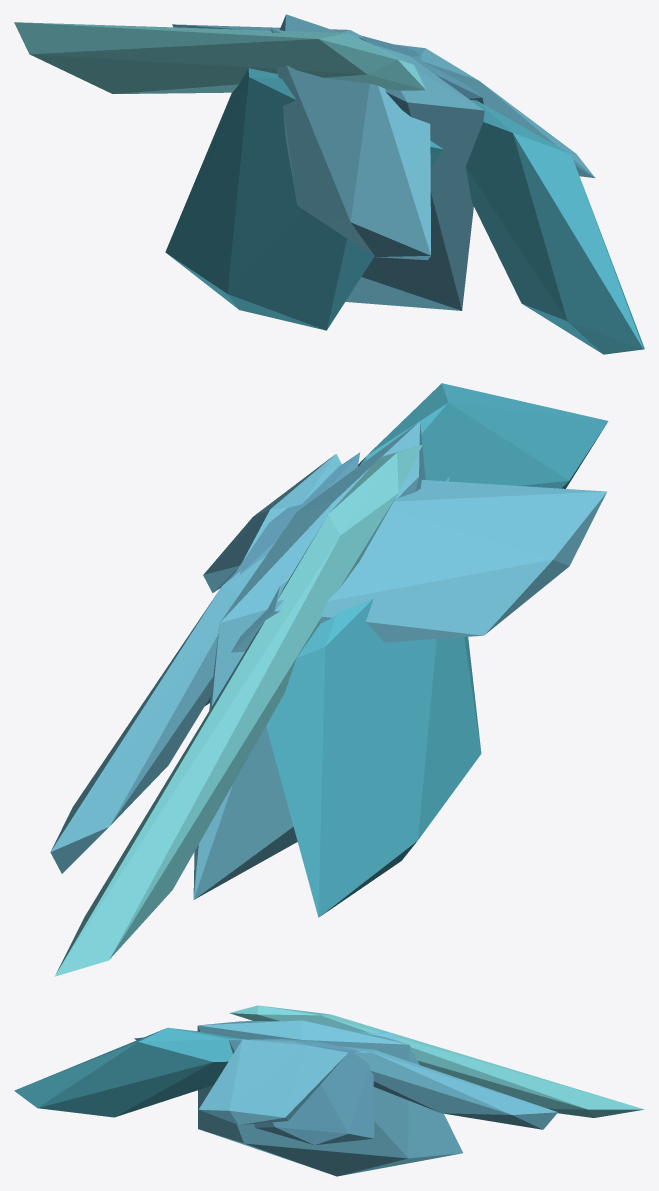
The model's file is cristal.obj.
3 views of the same model, one above another, from view 1: azimuth 30°, elevation 25°; view 2: azimuth 150°, elevation 25°; view 3: azimuth 270°, elevation 25° (orthographic). The views are drawn at different scales.
Visible parts, largest first — view 1: Platonic.7, Platonic.9, Platonic.10, cristais.5, Platonic.5, Platonic.11, Platonic.6, Platonic.8; view 2: Platonic.7, cristais.5, Platonic.10, Platonic.5, Platonic.9, Platonic.8, Platonic.11, Platonic.6; view 3: Platonic.5, Platonic.9, Platonic.11, cristais.5, Platonic.8, Platonic.6.
Part boxes in pixels (bbox=[...]): Platonic.7: bbox=[165, 68, 443, 330]; Platonic.9: bbox=[465, 100, 644, 354]; Platonic.10: bbox=[270, 29, 430, 260]; cristais.5: bbox=[14, 22, 425, 93]; Platonic.5: bbox=[279, 14, 484, 310]; Platonic.11: bbox=[394, 44, 595, 178]; Platonic.6: bbox=[358, 35, 483, 104]; Platonic.8: bbox=[172, 24, 362, 39]; Platonic.7: bbox=[266, 477, 481, 917]; cristais.5: bbox=[55, 445, 422, 976]; Platonic.10: bbox=[231, 480, 606, 652]; Platonic.5: bbox=[193, 421, 425, 899]; Platonic.9: bbox=[358, 383, 608, 488]; Platonic.8: bbox=[50, 555, 266, 873]; Platonic.11: bbox=[203, 454, 341, 592]; Platonic.6: bbox=[205, 452, 360, 705]; Platonic.5: bbox=[197, 1020, 462, 1176]; Platonic.9: bbox=[14, 1027, 242, 1117]; Platonic.11: bbox=[198, 1039, 347, 1124]; cristais.5: bbox=[229, 1005, 644, 1117]; Platonic.8: bbox=[342, 1046, 557, 1129]; Platonic.6: bbox=[229, 1038, 374, 1145].
Size of the model in its own units: 82.56 by 94.24 by 323.
